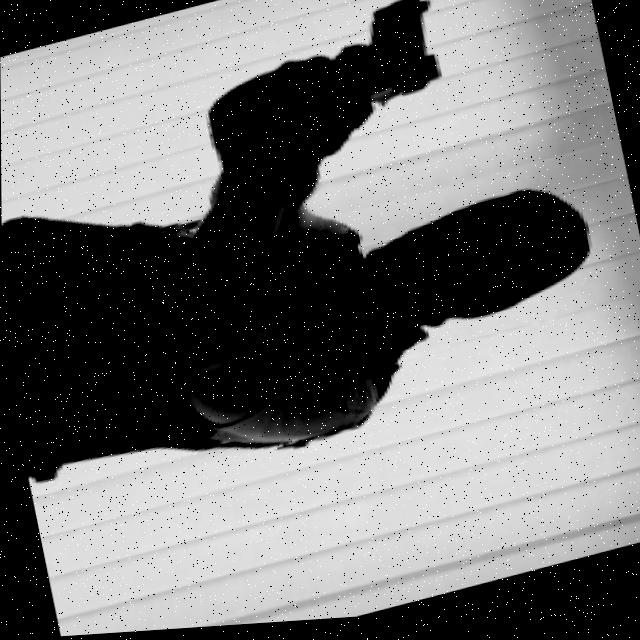pistol: (356, 0, 448, 110)
